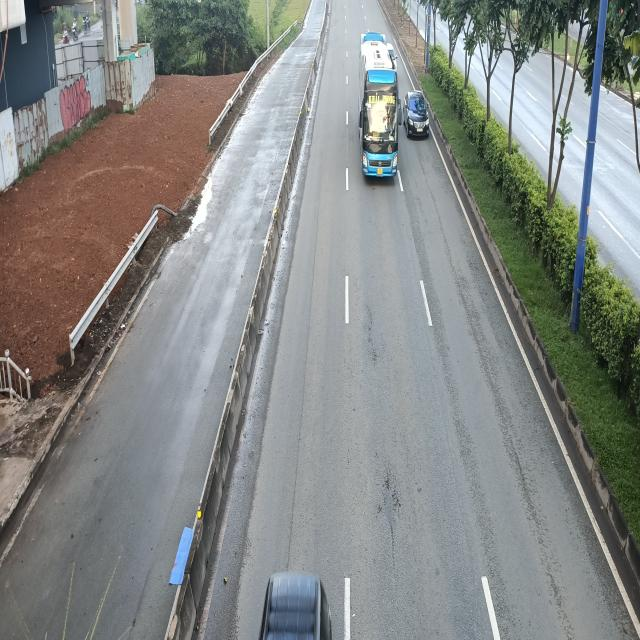car: (405, 89, 432, 138)
coach: (357, 29, 402, 182)
